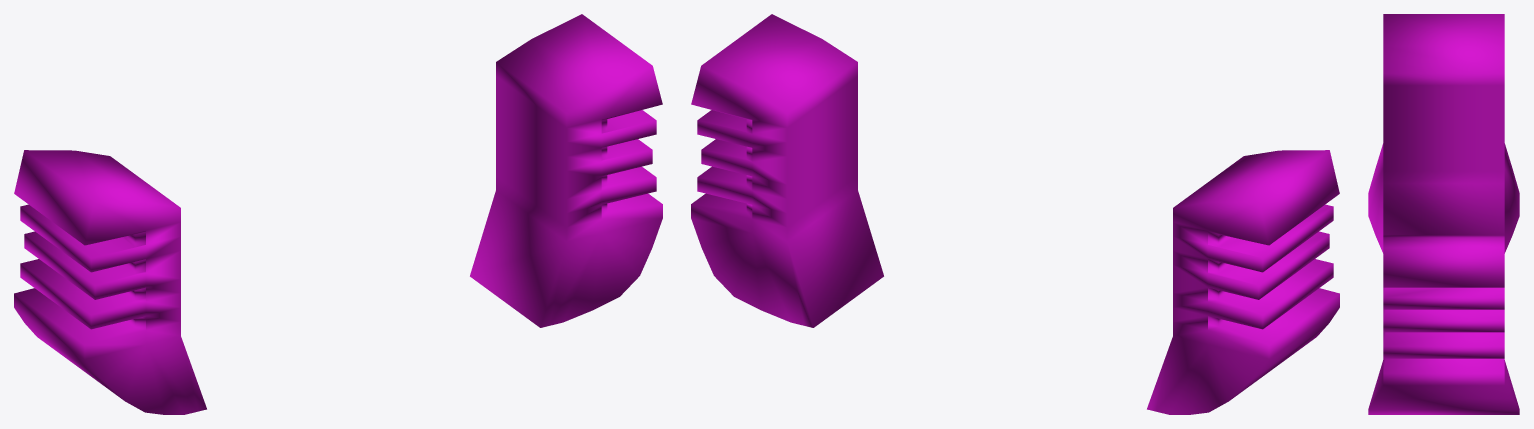
File: hoverboard_rubber_purple.dae
The picture shows the model from 3 angles, left to right: view 1: azimuth 30°, elevation 25°; view 2: azimuth 150°, elevation 25°; view 3: azimuth 270°, elevation 25°; orthographic projection. The views are drawn at different scales.
Visible parts, largest first — view 1: Torus_001; view 2: Torus_001; view 3: Torus_001.
Boxes of the visible parts, x1,y1,x2,y2 form: Torus_001: (14,14,662,414); Torus_001: (691,14,1339,414); Torus_001: (1368,14,1519,414).
Size of the model in its own units: 4.26 by 1.13 by 1.65.
